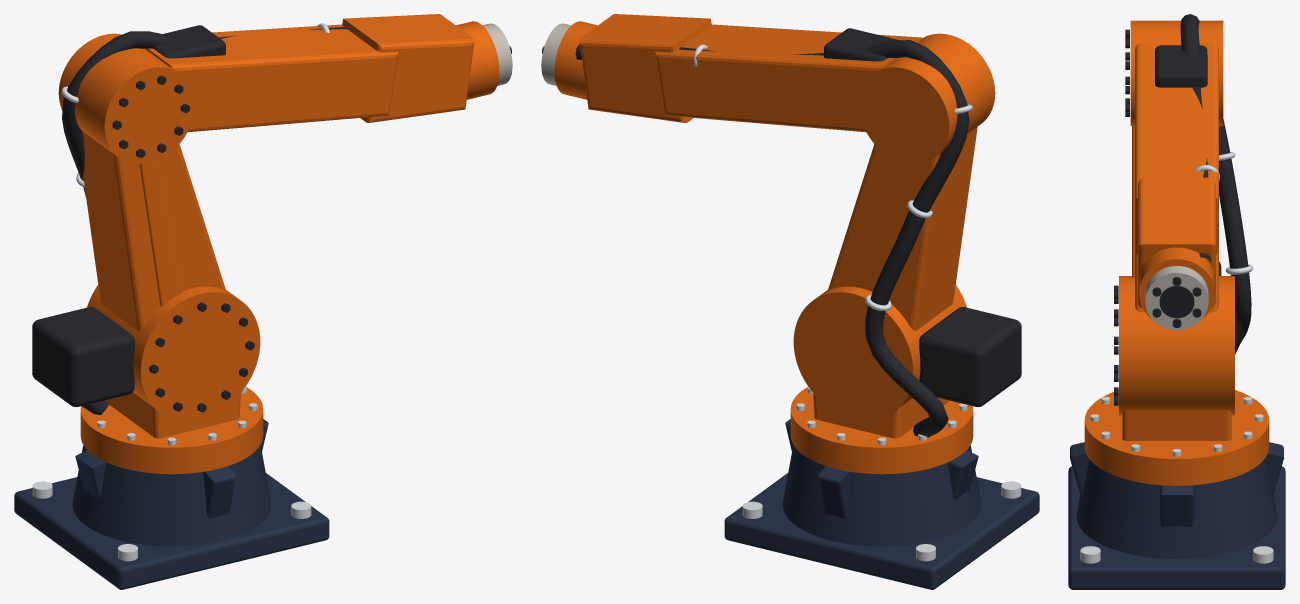
File: robots-06.glb
3 renders of one model, left to right at view 1: azimuth 30°, elevation 25°; view 2: azimuth 150°, elevation 25°; view 3: azimuth 270°, elevation 25°, orthographic.
Parts seen in each view (by area): view 1: base, boom, upper, shoulder, elbow, turn, wrist, motors, loom, flange; view 2: base, boom, upper, shoulder, elbow, wrist, turn, motors, loom, flange, clamps; view 3: base, turn, shoulder, boom, wrist, loom, flange, elbow, motors, upper, clamps.
Part boxes in pixels (x1=…): base: x1=14, y1=419, x2=329, y2=589; boom: x1=145, y1=24, x2=398, y2=132; upper: x1=82, y1=131, x2=225, y2=330; shoulder: x1=87, y1=285, x2=260, y2=420; elbow: x1=58, y1=33, x2=194, y2=164; turn: x1=80, y1=386, x2=263, y2=474; wrist: x1=342, y1=14, x2=499, y2=122; motors: x1=32, y1=25, x2=225, y2=406; loom: x1=62, y1=27, x2=346, y2=414; flange: x1=483, y1=23, x2=512, y2=85; base: x1=724, y1=419, x2=1039, y2=589; boom: x1=655, y1=24, x2=921, y2=132; upper: x1=828, y1=127, x2=977, y2=330; shoulder: x1=793, y1=285, x2=966, y2=420; elbow: x1=859, y1=33, x2=995, y2=164; wrist: x1=554, y1=14, x2=711, y2=122; turn: x1=790, y1=386, x2=973, y2=474; motors: x1=824, y1=28, x2=1021, y2=406; loom: x1=575, y1=40, x2=969, y2=437; flange: x1=541, y1=23, x2=570, y2=85; clamps: x1=693, y1=44, x2=972, y2=310; base: x1=1068, y1=442, x2=1285, y2=589; turn: x1=1084, y1=390, x2=1269, y2=485; shoulder: x1=1114, y1=276, x2=1234, y2=415; boom: x1=1135, y1=43, x2=1218, y2=254; wrist: x1=1138, y1=177, x2=1215, y2=319; loom: x1=1180, y1=14, x2=1251, y2=354; flange: x1=1145, y1=266, x2=1208, y2=330; elbow: x1=1125, y1=20, x2=1223, y2=125; motors: x1=1155, y1=45, x2=1221, y2=275; upper: x1=1132, y1=126, x2=1218, y2=312; clamps: x1=1195, y1=152, x2=1252, y2=274.
Size of the model in its own units: 2.49 by 2.64 by 1.03.
